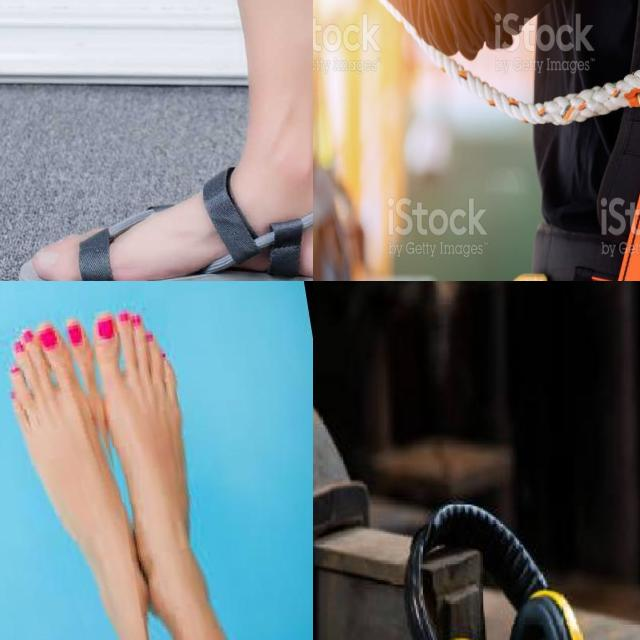Barefoots: (1, 317, 155, 630), (99, 304, 221, 613)
Ear-protection: (390, 485, 618, 640)
Harness: (499, 0, 640, 281)
Sandals: (15, 151, 313, 281)
